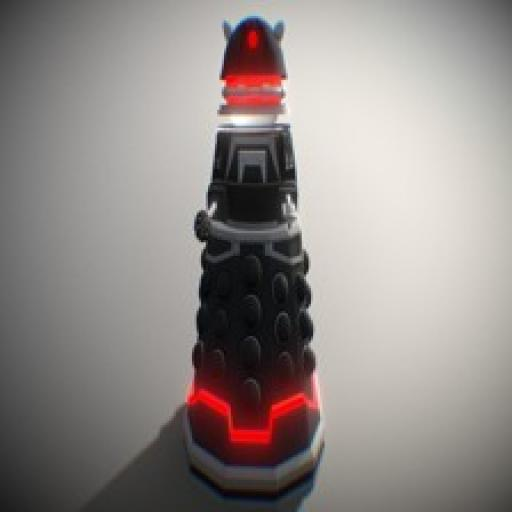dalek: (182, 11, 324, 512)
